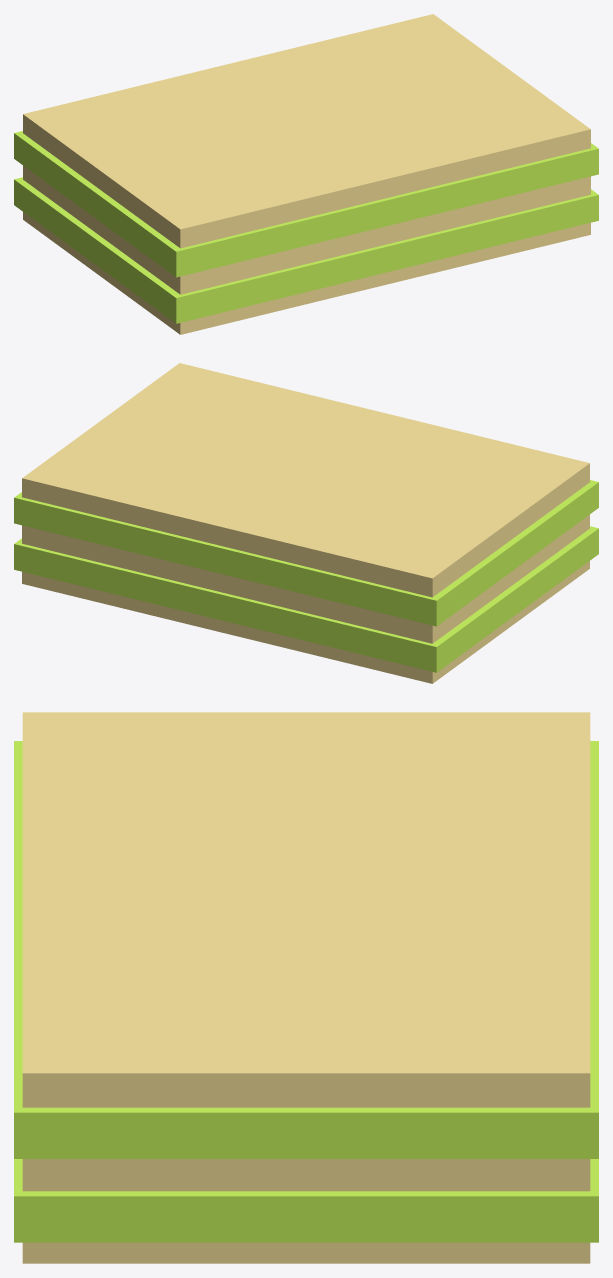
Rendered from boloretangulo limao.glb.
3 views of the same model, one above another, from view 1: azimuth 30°, elevation 25°; view 2: azimuth 150°, elevation 25°; view 3: azimuth 270°, elevation 25° (orthographic). The views are drawn at different scales.
Visible parts, largest first — view 1: Cube, Cube.002, Cube.001; view 2: Cube, Cube.002, Cube.001; view 3: Cube, Cube.001, Cube.002.
Boxes of the visible parts, box(x1,y1,x2,y2) form: Cube: box(23, 14, 590, 334); Cube.002: box(14, 177, 598, 323); Cube.001: box(14, 131, 598, 277); Cube: box(22, 363, 589, 683); Cube.002: box(14, 526, 598, 672); Cube.001: box(14, 480, 598, 626); Cube: box(22, 712, 590, 1263); Cube.001: box(14, 741, 598, 1158); Cube.002: box(14, 1159, 598, 1242).
Size of the model in its own units: 3.1 by 0.7391 by 2.06.
